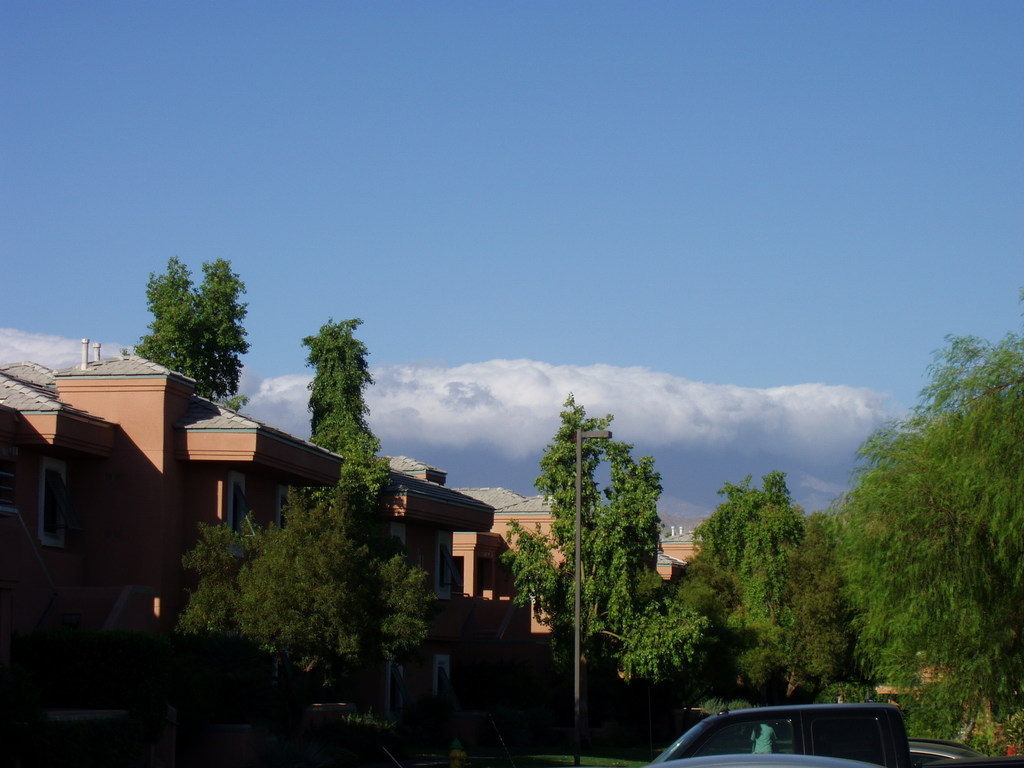cars: (644, 707, 912, 767)
